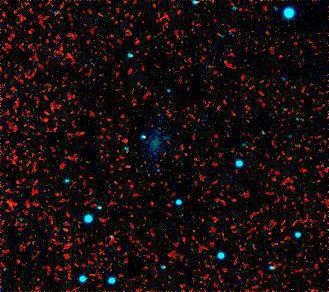star: (111, 151, 141, 181)
